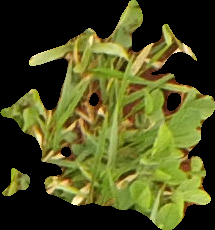grass: (1, 1, 213, 228)
